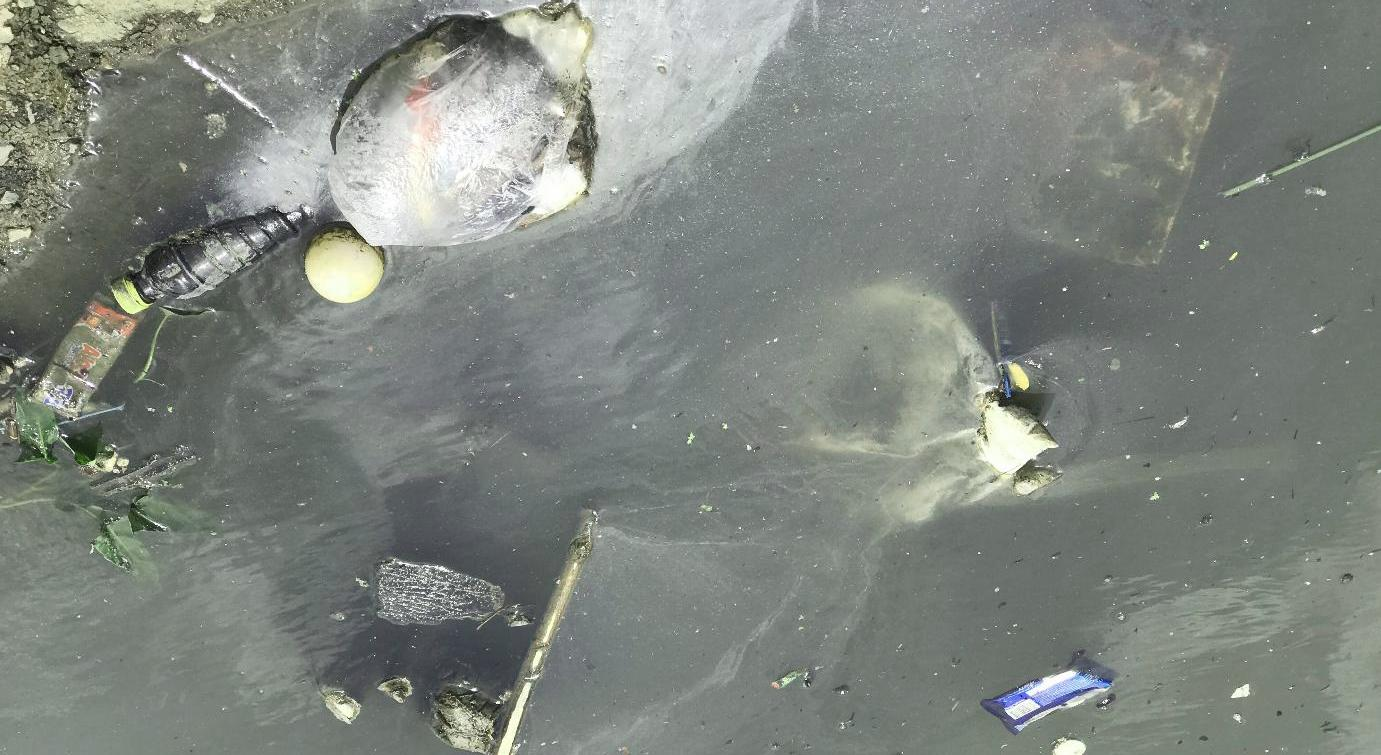Plastic: (111, 203, 308, 314), (35, 291, 136, 414)
Trash: (335, 6, 598, 252), (981, 657, 1121, 740), (373, 552, 507, 630), (978, 388, 1064, 473), (427, 684, 506, 755)
